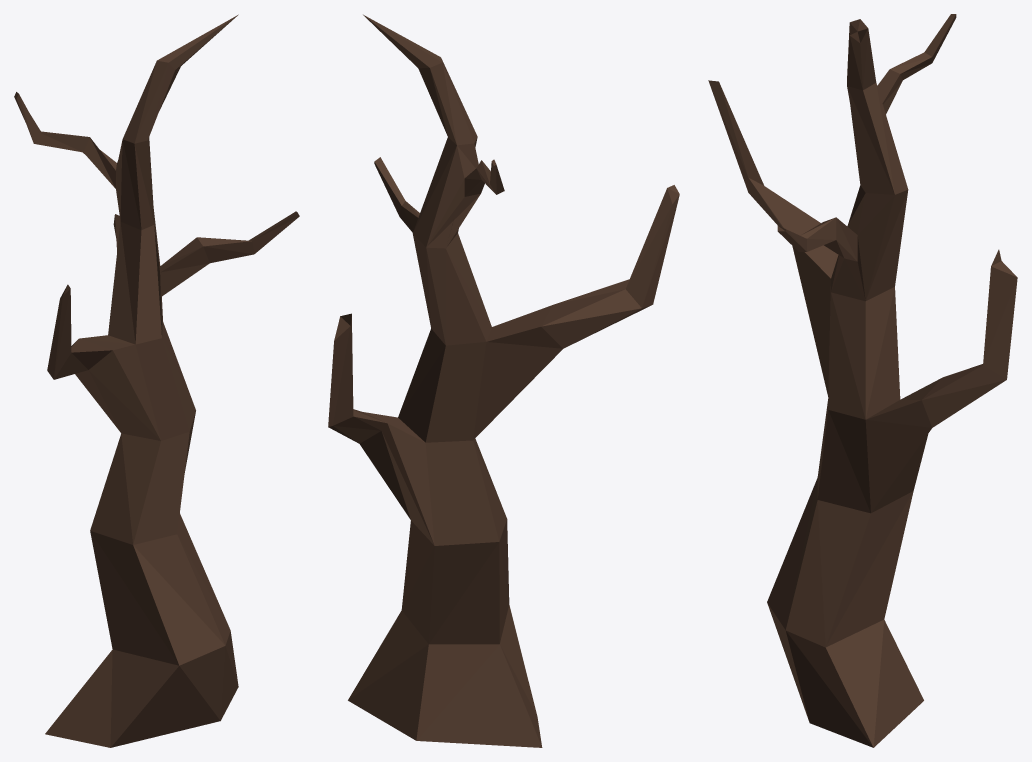
3 views of the same model, side by side, from view 1: azimuth 30°, elevation 25°; view 2: azimuth 150°, elevation 25°; view 3: azimuth 270°, elevation 25° (orthographic). The views are drawn at different scales.
Size of the model in its own units: 122 by 295 by 116.
Materials: 1 (1 with a texture image).
